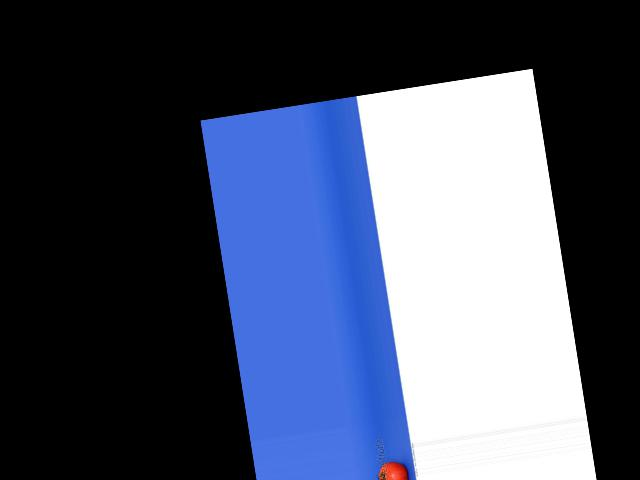tomato: (377, 460, 410, 480)
